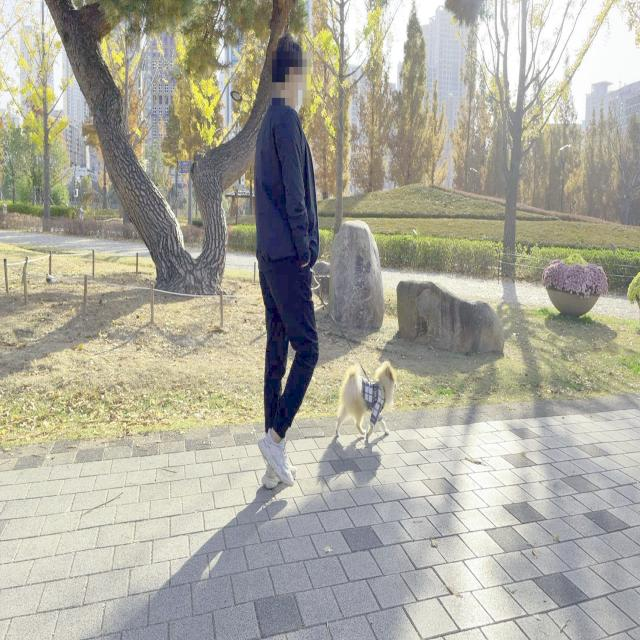Leashed_Dog: (296, 279, 397, 445)
